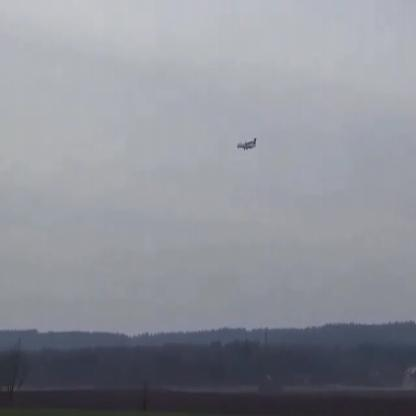CIV_Plane: (236, 139, 258, 152)
